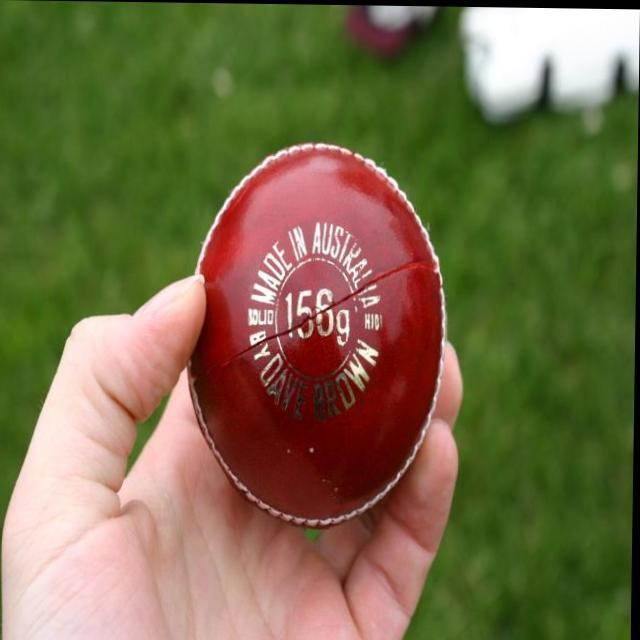cricket ball: (188, 142, 447, 527)
